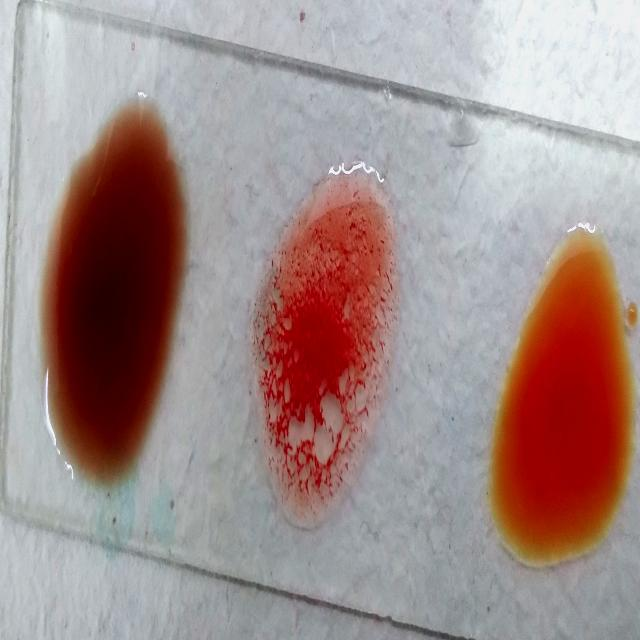D: (258, 170, 396, 526)
